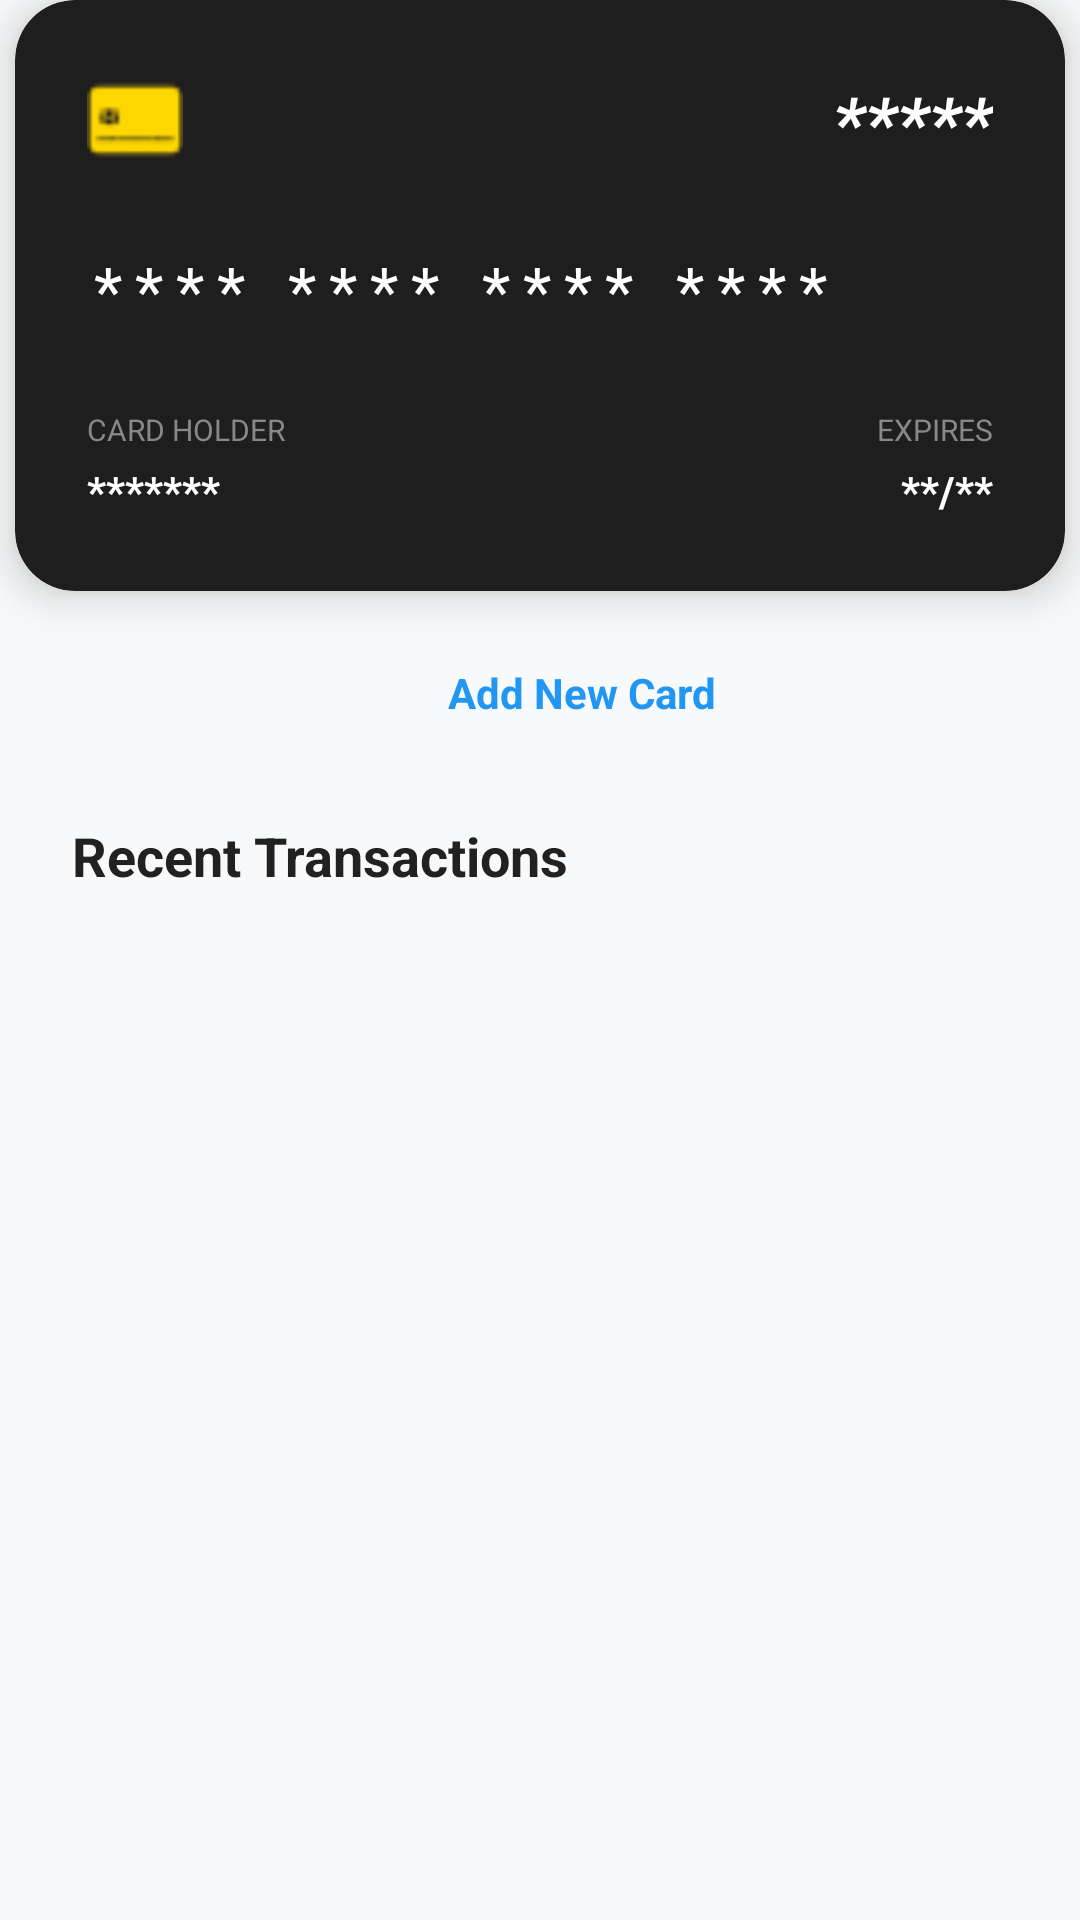

Named icons in this screenshot (1080w x 1920h) and their centers, point (x, y):
credit card: point (135, 120)
